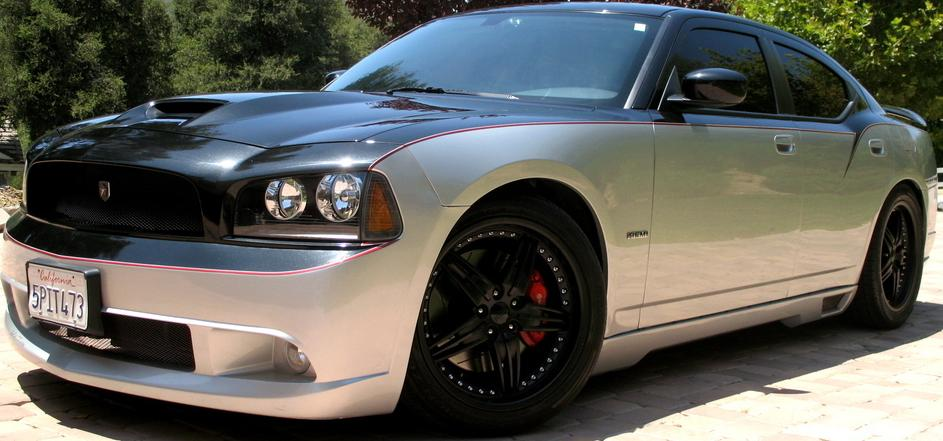front_view: (8, 127, 431, 424)
headlight: (219, 137, 400, 277)
side_glass: (666, 30, 872, 138)
